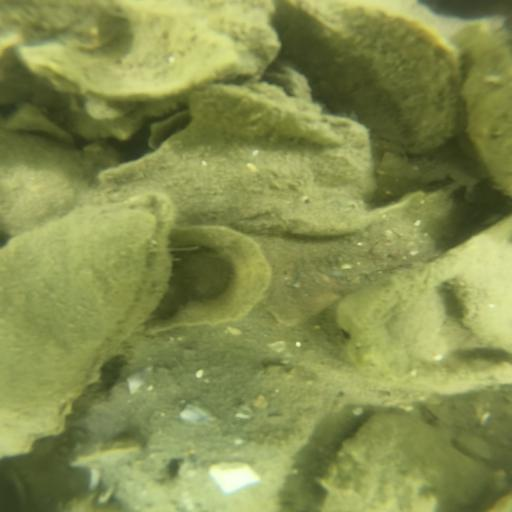Oyster-Closed: (97, 92, 375, 236), (76, 360, 333, 510), (278, 7, 461, 157), (21, 1, 281, 95), (323, 413, 486, 509), (181, 85, 347, 144), (447, 216, 512, 356), (461, 23, 512, 196), (5, 133, 82, 232), (176, 447, 290, 512)
Oyster-Open: (2, 206, 168, 459)
